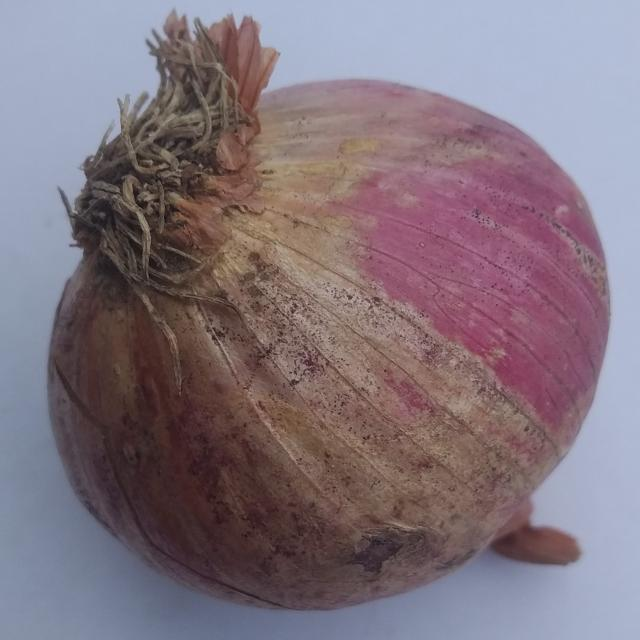onion: (45, 8, 612, 612)
